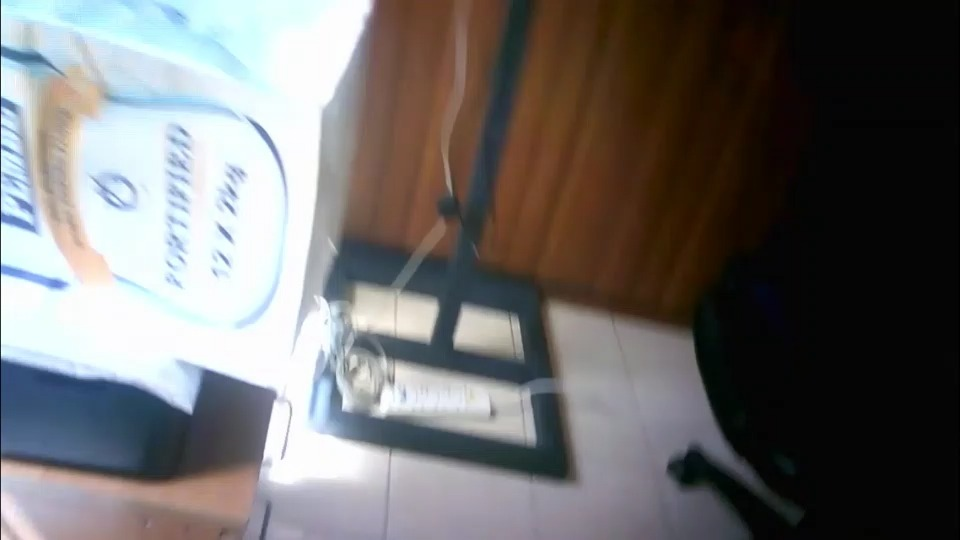wheat_flour_blue_label: (2, 2, 372, 388)
